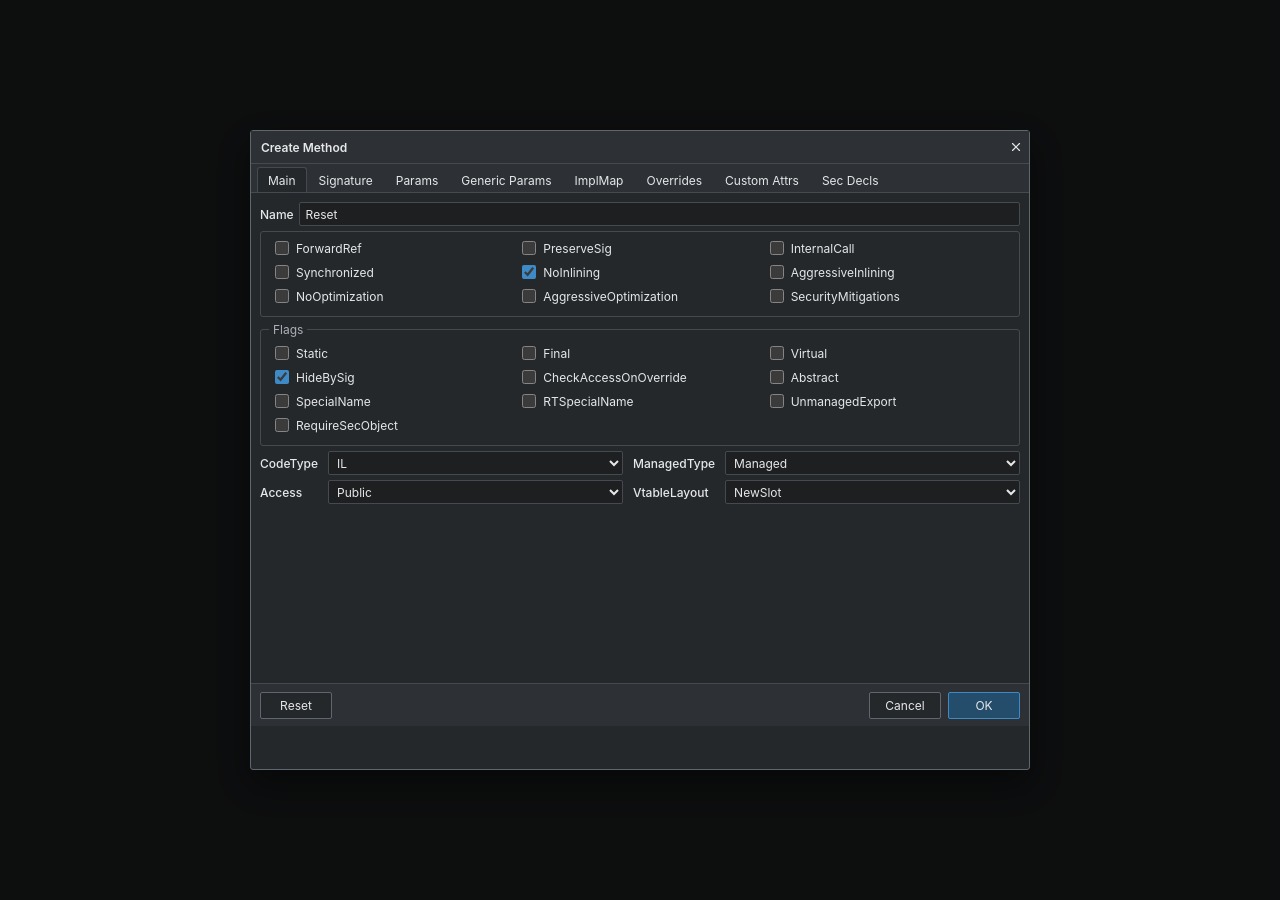
it: MethodOptionsDialog › puts every page back to what the window opened with
Replace the text in the field labelled "Name" with "Other": (659, 214) x1=299 y1=202 x2=1020 y2=226
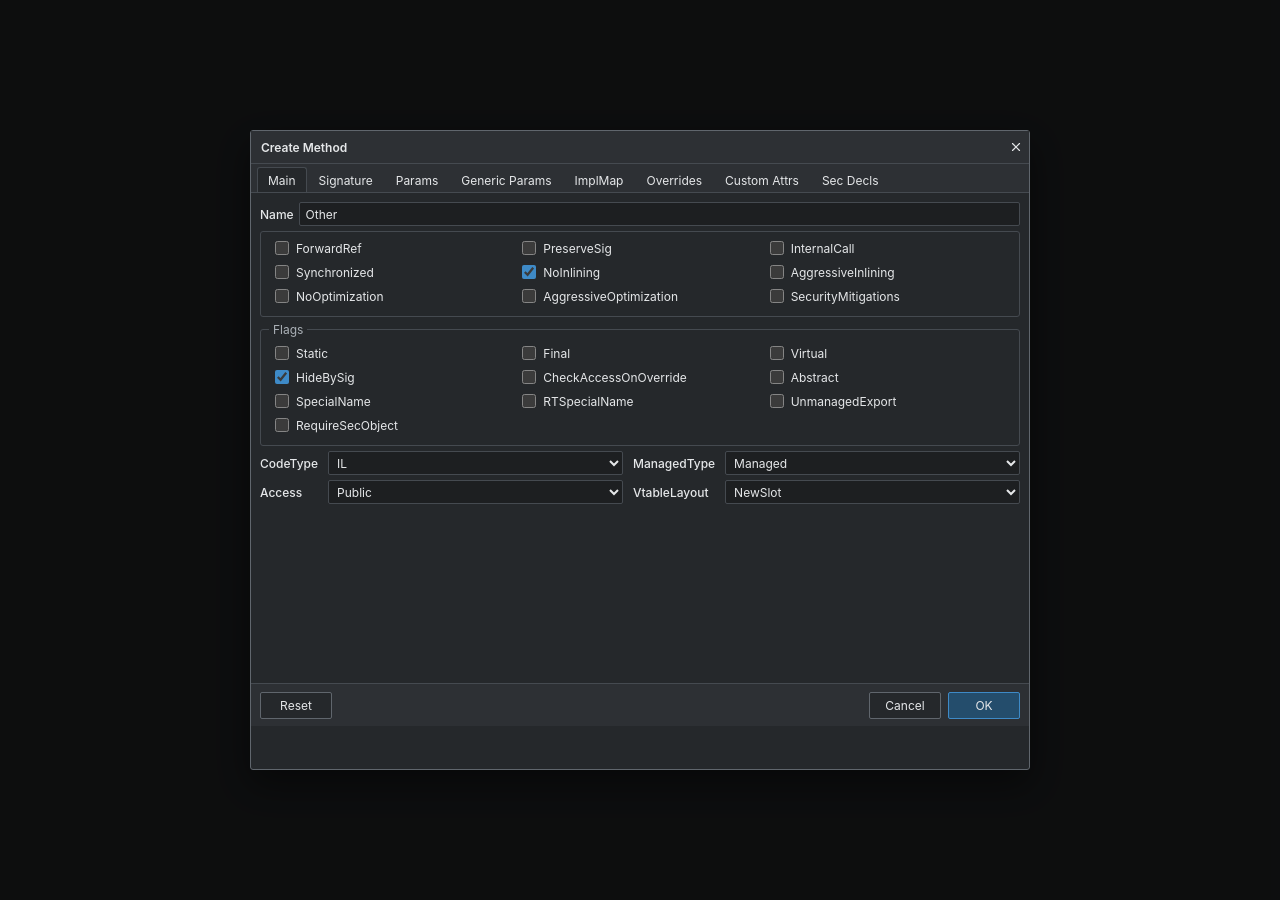
Click the button "Reset": (296, 705) x1=260 y1=692 x2=332 y2=718
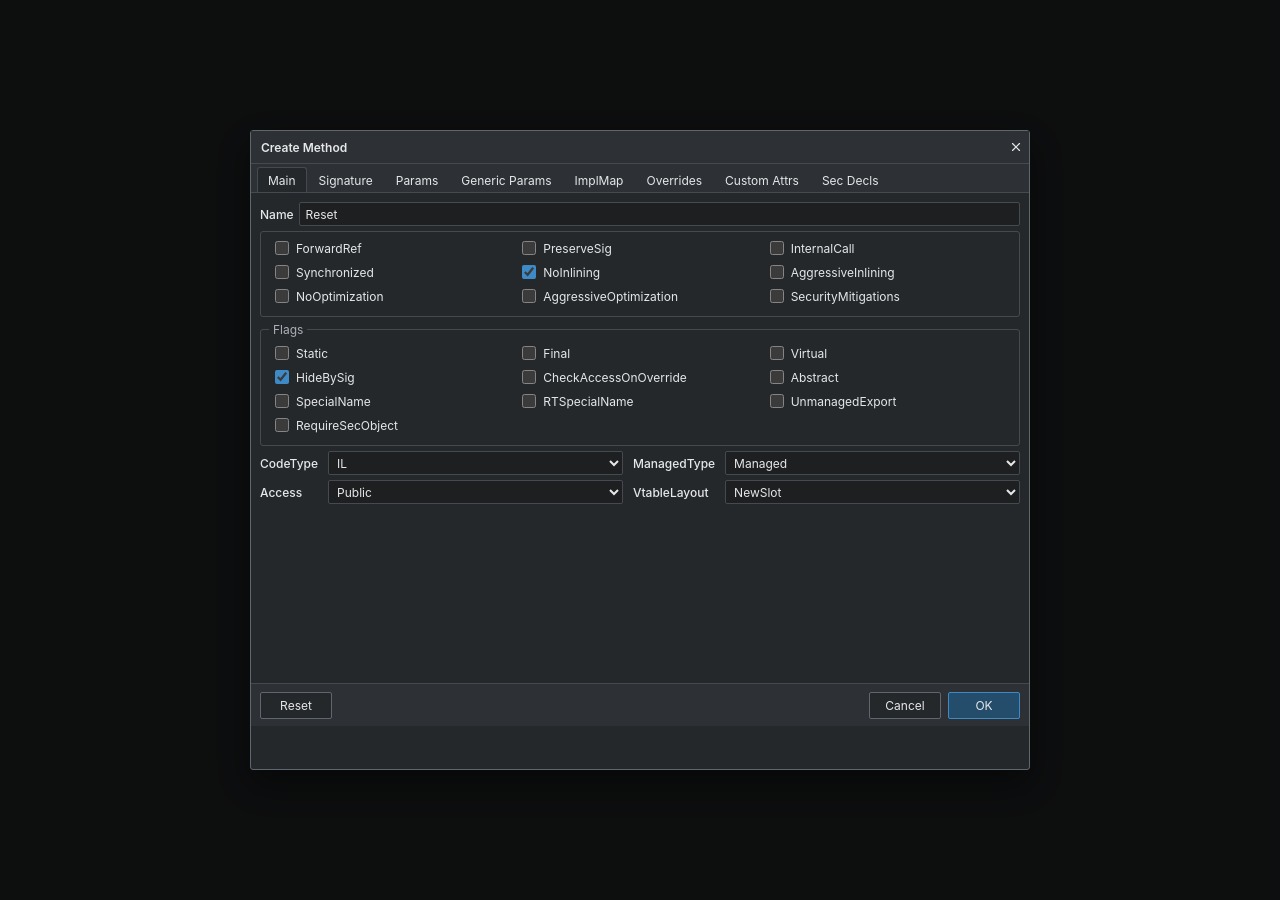
Result: the field labelled "Name" holds "Reset" at x1=299 y1=202 x2=1020 y2=226
